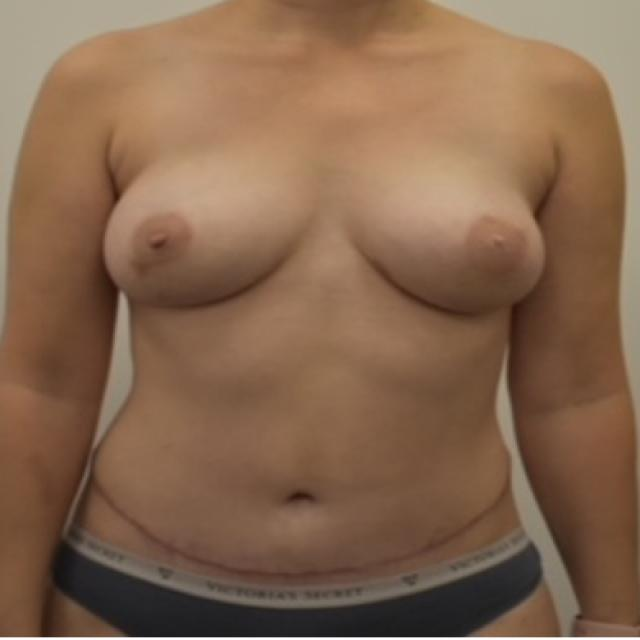Seno ileso: (337, 143, 553, 327), (95, 145, 312, 319)
